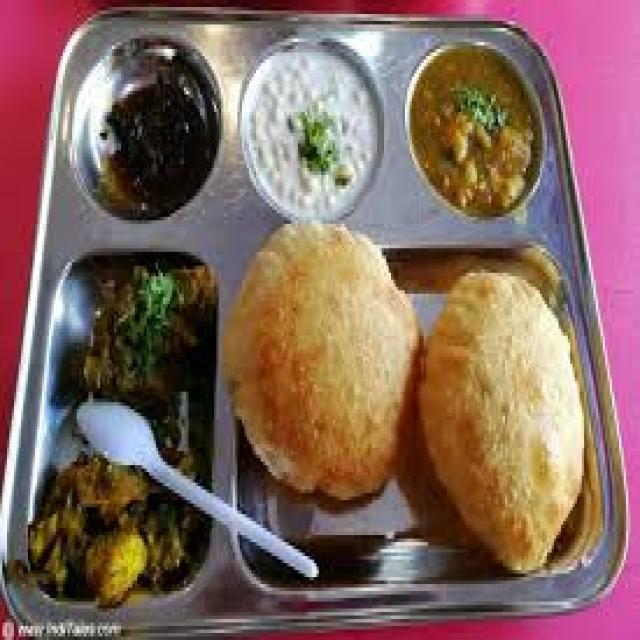papad: (220, 217, 413, 500), (418, 280, 590, 542)
